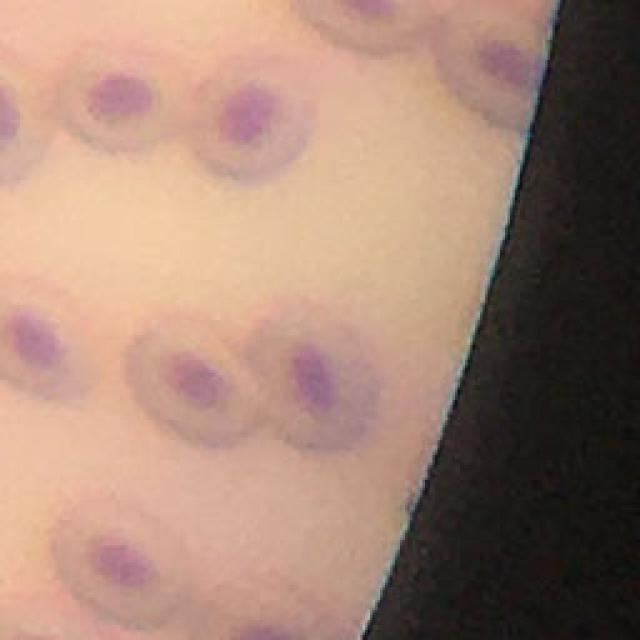RBC: (256, 298, 380, 459), (121, 312, 263, 452), (52, 497, 194, 632), (180, 52, 322, 186), (50, 37, 191, 156), (431, 4, 547, 136), (0, 262, 103, 406), (290, 0, 437, 58), (0, 54, 50, 190)
